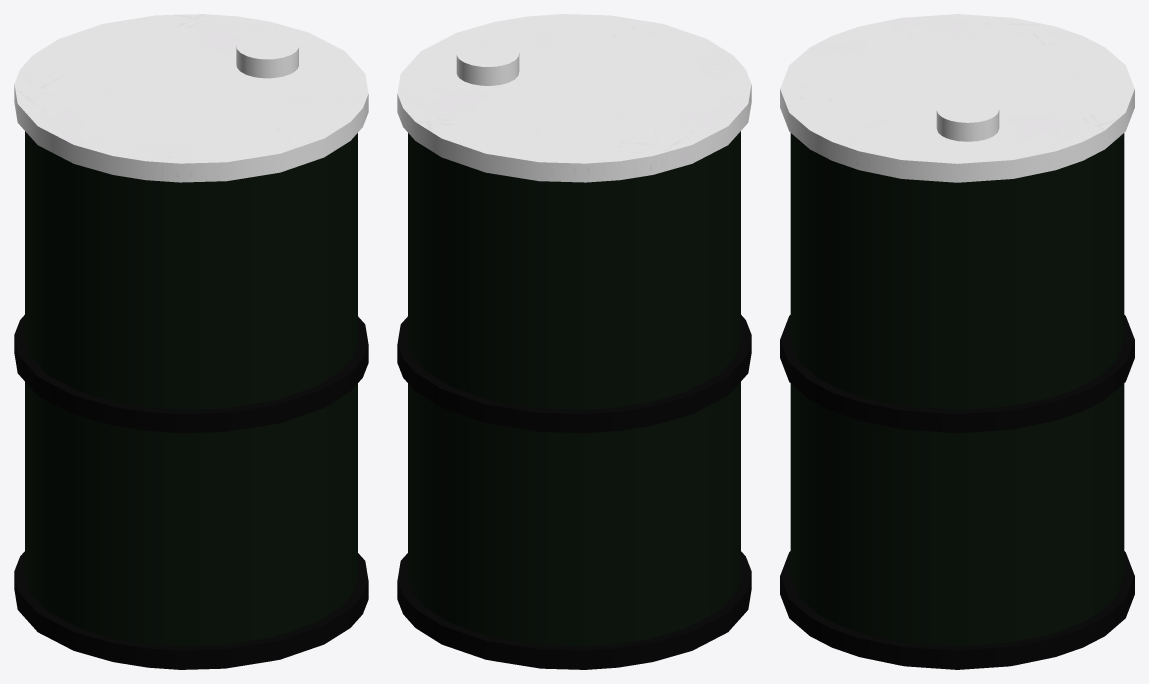
Rendered from Barrel.obj.
The picture shows the model from 3 angles, left to right: view 1: azimuth 30°, elevation 25°; view 2: azimuth 150°, elevation 25°; view 3: azimuth 270°, elevation 25°; orthographic projection.
Visible parts, largest first — view 1: Part5, Part3, Part1, Part2, Part4; view 2: Part5, Part3, Part1, Part2, Part4; view 3: Part5, Part3, Part2, Part1, Part4.
Boxes of the visible parts, x1,y1,x2,y2 form: Part5: (25,131,357,669); Part3: (14,14,368,182); Part1: (14,551,368,669); Part2: (14,315,368,432); Part4: (236,33,298,78); Part5: (408,131,740,669); Part3: (397,14,751,182); Part1: (397,551,751,669); Part2: (397,315,751,432); Part4: (456,40,519,85); Part5: (790,133,1124,669); Part3: (780,14,1134,182); Part2: (780,315,1134,433); Part1: (780,551,1134,669); Part4: (936,96,999,141).
Bounding box in the file's own units: 4.25 × 7 × 4.25.
4 materials, 2 textured.
